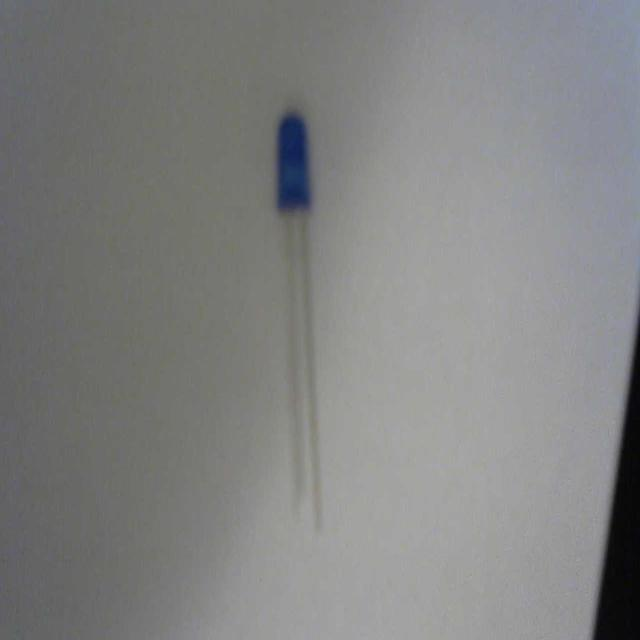blue_led: (276, 112, 312, 212)
